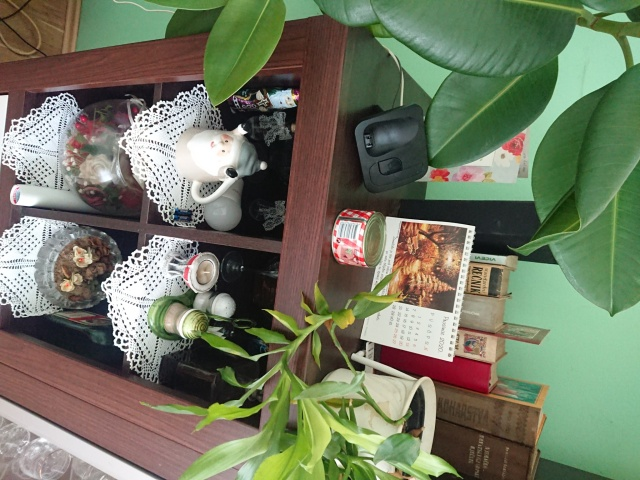Podravka Luncheon Meat 150g: (329, 206, 388, 270)
